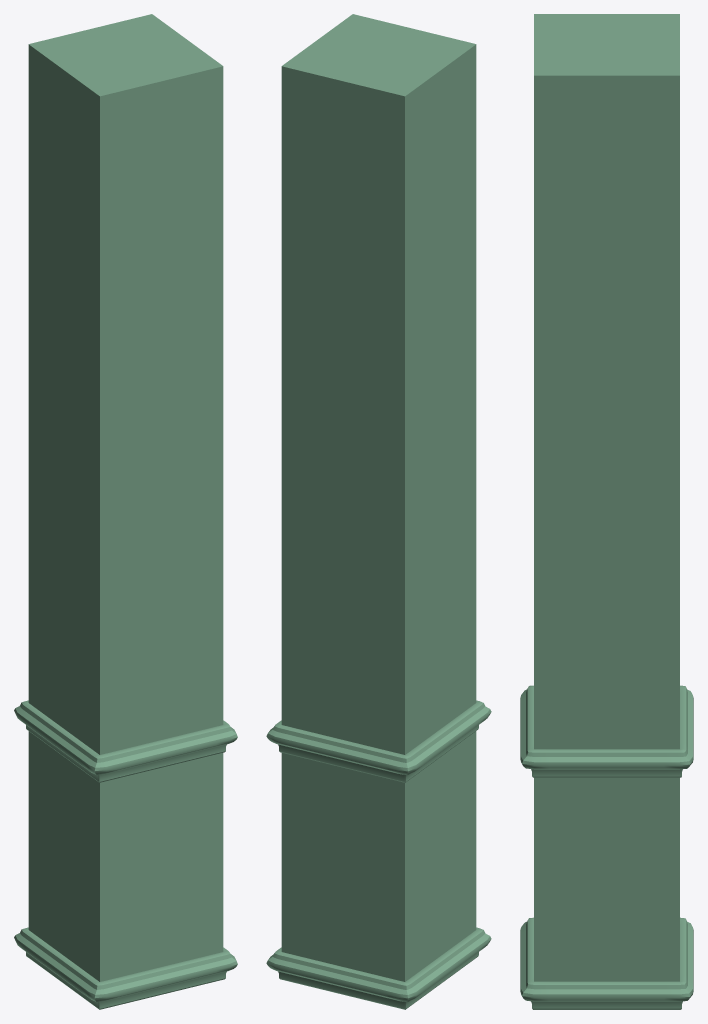
The model's file is BathroomColumn.fbx.
3 views of the same model, side by side, from view 1: azimuth 30°, elevation 25°; view 2: azimuth 150°, elevation 25°; view 3: azimuth 270°, elevation 25° (orthographic). The views are drawn at different scales.
Parts seen in each view (by area): view 1: ModPillar; view 2: ModPillar; view 3: ModPillar.
Boxes of the visible parts, box(x1,y1,x2,y2) form: ModPillar: box(14, 14, 237, 1009); ModPillar: box(266, 14, 491, 1009); ModPillar: box(520, 14, 693, 1009).
Size of the model in its own units: 60.5 by 360 by 60.5.
